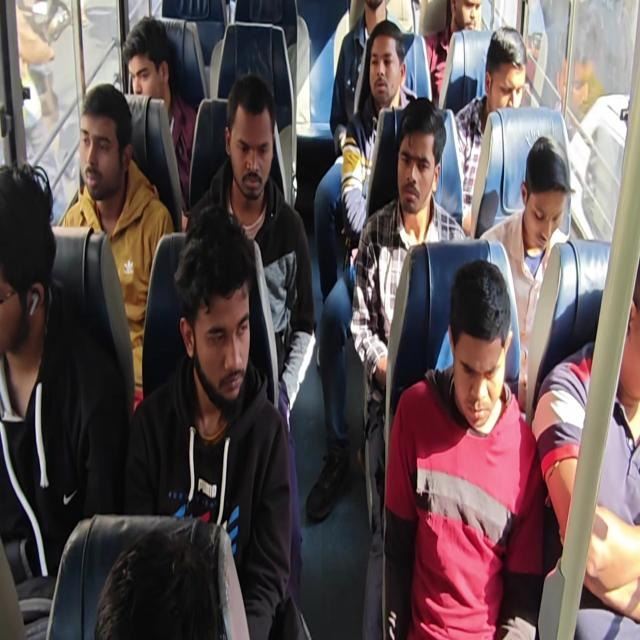person: (1, 2, 638, 638), (123, 203, 295, 638), (184, 72, 316, 610), (350, 97, 468, 638), (382, 258, 545, 638), (0, 160, 130, 636), (306, 19, 416, 522), (532, 254, 640, 632), (57, 83, 175, 411), (477, 134, 573, 412), (340, 19, 414, 239), (454, 26, 529, 236), (121, 15, 197, 217), (94, 526, 224, 639), (329, 0, 388, 156), (425, 0, 482, 107)
